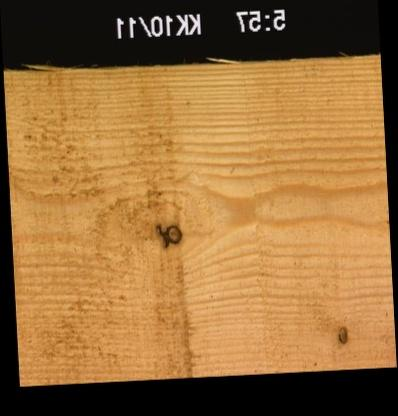dry_knot: (335, 323, 347, 344)
